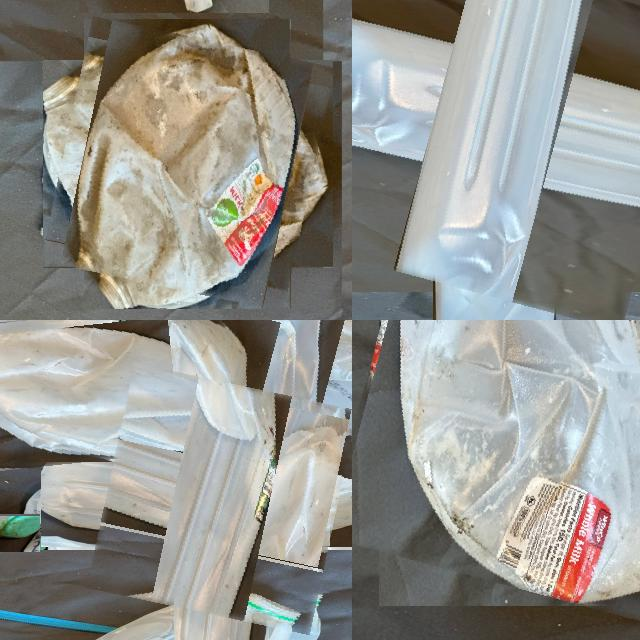milk-jug: (352, 0, 640, 311), (352, 320, 640, 624), (51, 27, 322, 300), (96, 373, 346, 624), (118, 320, 352, 505), (0, 320, 232, 469), (23, 588, 333, 640)
